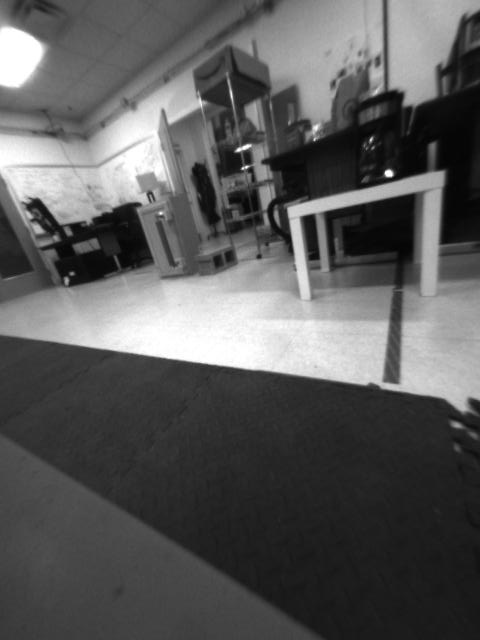coffee_pot: (349, 89, 418, 186)
